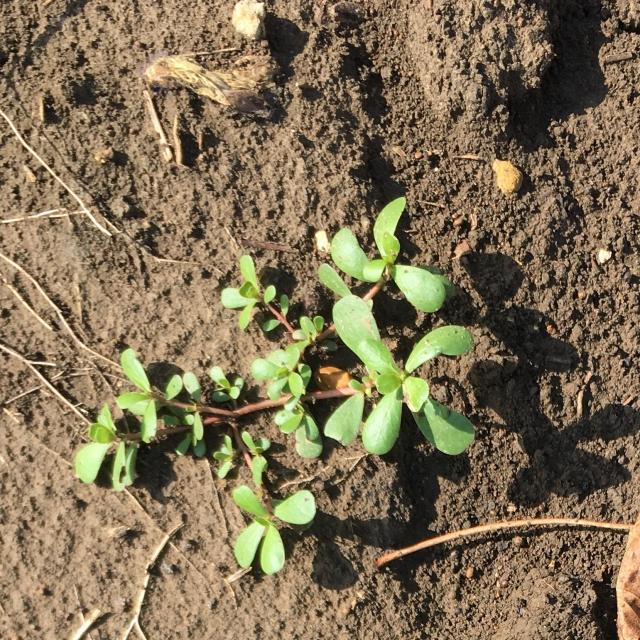Purslane: (74, 197, 474, 575)
